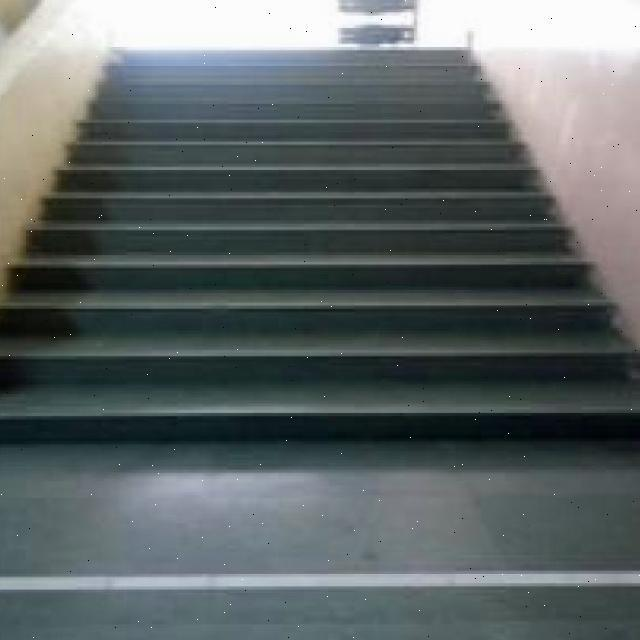stair: (8, 215, 566, 473)
